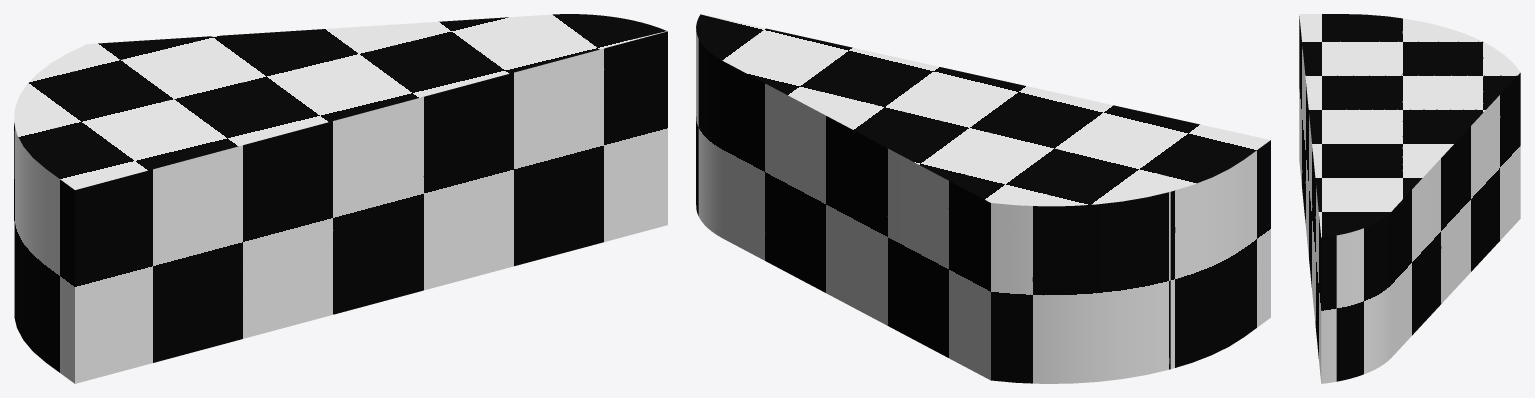
The model's file is Flipper_1.FBX.
3 renders of one model, left to right at view 1: azimuth 30°, elevation 25°; view 2: azimuth 150°, elevation 25°; view 3: azimuth 270°, elevation 25°, orthographic. The views are drawn at different scales.
Parts seen in each view (by area): view 1: Layer0_001; view 2: Layer0_001; view 3: Layer0_001.
Boxes of the visible parts, x1=… form: Layer0_001: x1=14, y1=14, x2=667, y2=383; Layer0_001: x1=696, y1=14, x2=1270, y2=383; Layer0_001: x1=1299, y1=14, x2=1520, y2=383.
Bounding box in the file's own units: 167 × 50.8 × 69.69.
Materials: 1 (1 with a texture image).
